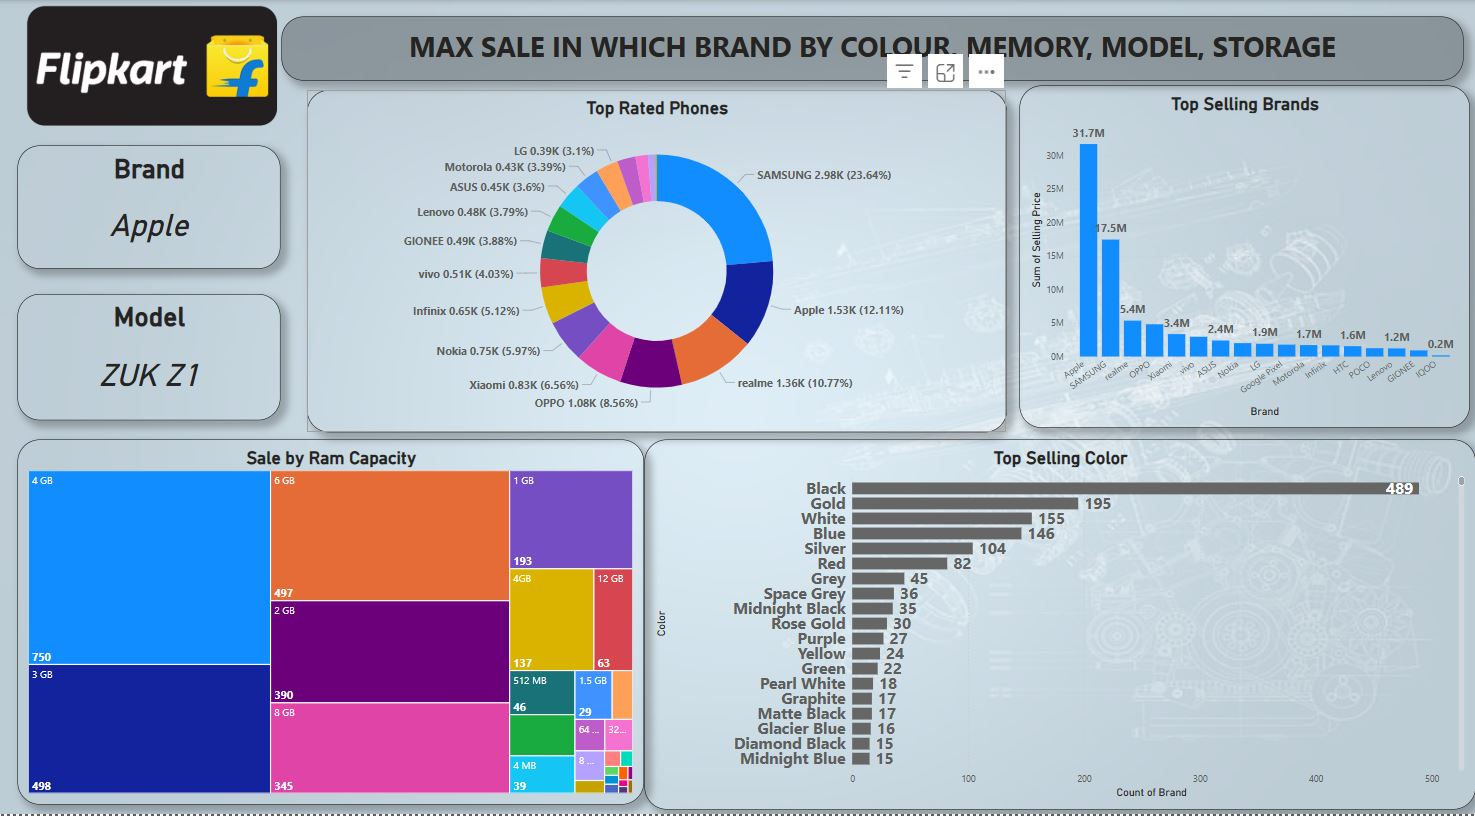

The page's visual inventory and layout, read from the dashboard file:
{"tool":"powerbi","page":{"name":"Page 1","canvas":[2000,1100],"ordinal":0},"visuals":[{"type":"textbox","box":[382.9,22.8,1597.6,86.6],"z":0},{"type":"image","box":[0,0,417.1,177.8],"z":1000},{"type":"treemap","title":"Sale by Ram Capacity","fields":{"Values":["CountNonNull(Flipkart_Mobiles.Storage)"],"Group":["Flipkart_Mobiles.Memory"]},"box":[26.7,593.3,846.7,493.3],"z":2000},{"type":"clusteredBarChart","title":"Top Selling Color ","fields":{"Category":["Flipkart_Mobiles.Color"],"Y":["CountNonNull(Flipkart_Mobiles.Brand)"]},"box":[873.3,593.3,1123.3,500],"z":3000},{"type":"columnChart","title":"Top Selling Brands","fields":{"Category":["Flipkart_Mobiles.Brand"],"Y":["Sum(Flipkart_Mobiles.Selling Price)"]},"box":[1381.1,116.2,608.5,462.6],"z":4000},{"type":"donutChart","title":"Top Rated Phones","fields":{"Category":["Flipkart_Mobiles.Brand"],"Y":["Sum(Flipkart_Mobiles.Rating)"]},"box":[417.1,120.8,945.8,462.6],"z":5000},{"type":"card","title":"Model","fields":{"Values":["Max(Flipkart_Mobiles.Model)"]},"box":[27.3,396.6,355.5,170.9],"z":6000},{"type":"card","title":"Brand","fields":{"Values":["Min(Flipkart_Mobiles.Brand)"]},"box":[27.3,196,355.5,166.4],"z":7000}]}

Visuals, with their boxes in screenshot pixels (x1, y1, x2, y2), scaled from the page's 2000x1100 canvas onto the 1475x816 screenshot:
textbox: l=282, t=17, r=1461, b=81
image: l=0, t=0, r=308, b=132
"Sale by Ram Capacity" treemap: l=20, t=440, r=644, b=806
"Top Selling Color " clusteredBarChart: l=644, t=440, r=1472, b=811
"Top Selling Brands" columnChart: l=1019, t=86, r=1467, b=429
"Top Rated Phones" donutChart: l=308, t=90, r=1005, b=433
"Model" card: l=20, t=294, r=282, b=421
"Brand" card: l=20, t=145, r=282, b=269
